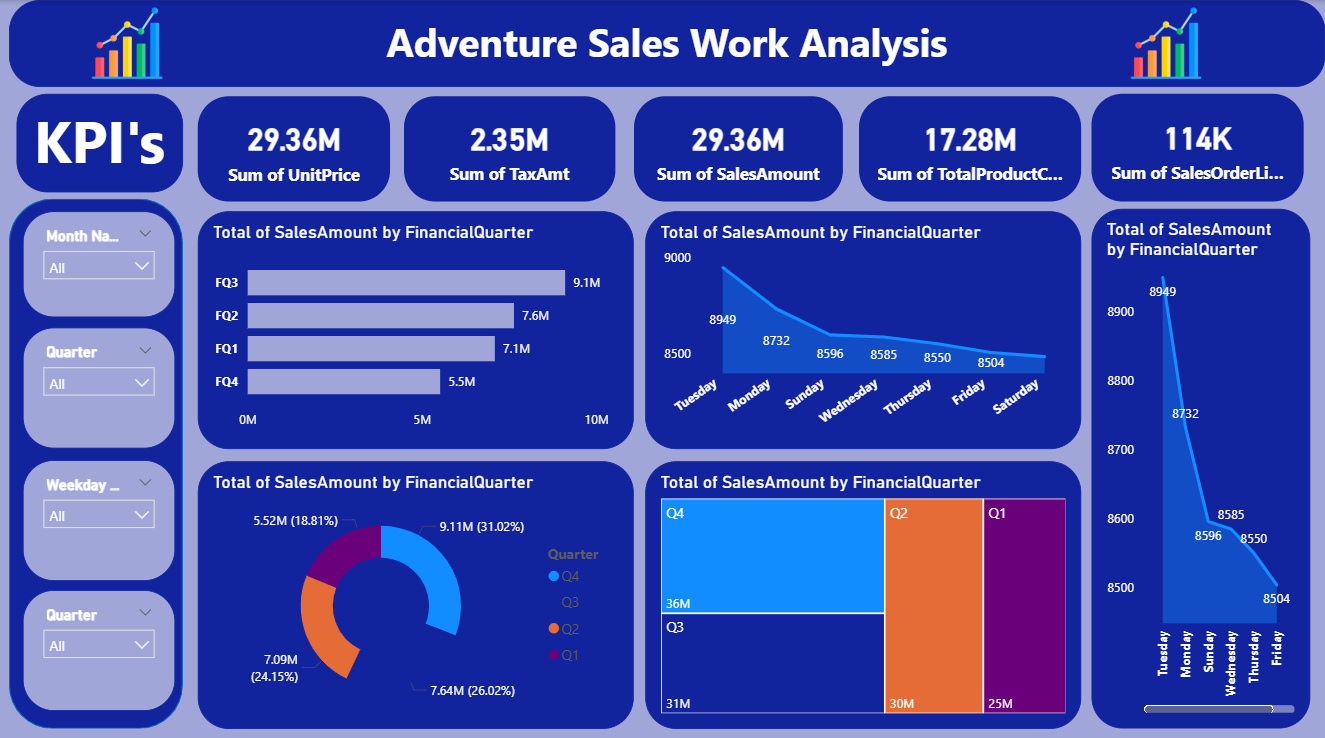

What the dashboard file says about the page in this screenshot:
{"tool":"powerbi","page":{"name":"Page 1","canvas":[1280,720],"ordinal":0},"visuals":[{"type":"textbox","box":[9.8,0,1270.5,84.4],"z":0,"group":"g1"},{"type":"textbox","box":[16.9,90.5,160.5,95.3],"z":1000,"group":"g1"},{"type":"card","fields":{"Values":["Sum(Sheet1.UnitPrice)"]},"box":[191.9,92.9,185.8,101.3],"z":2000,"group":"g1"},{"type":"card","fields":{"Values":["Sum(Sheet1.TaxAmt)"]},"box":[390.9,92.9,203.9,101.3],"z":3000,"group":"g1"},{"type":"card","fields":{"Values":["Sum(Sheet1.SalesAmount)"]},"box":[612.9,92.9,201.5,101.3],"z":4000,"group":"g1"},{"type":"card","fields":{"Values":["Sum(Sheet1.TotalProductCost)"]},"box":[830.1,92.9,214.7,101.3],"z":5000,"group":"g1"},{"type":"card","fields":{"Values":["Sum(Sheet1.SalesOrderLineNumber)"]},"box":[1054.5,90.5,205.1,103.8],"z":6000,"group":"g1"},{"type":"shape","box":[9.7,191.8,167.7,511.5],"z":7000,"group":"g1"},{"type":"slicer","fields":{"Values":["Sheet1.MonthName"]},"box":[23,203.9,147.2,102.5],"z":8000,"group":"g1"},{"type":"slicer","fields":{"Values":["Sheet1.Quarter"]},"box":[23,316.1,147.2,117],"z":9000,"group":"g1"},{"type":"slicer","fields":{"Values":["Sheet1.Weekdayname"]},"box":[23,444,147.2,117],"z":9001,"group":"g1"},{"type":"slicer","fields":{"Values":["Sheet1.Quarter"]},"box":[23,569.4,147.2,117],"z":9002,"group":"g1"},{"type":"clusteredBarChart","title":"Total of SalesAmount by FinancialQuarter","fields":{"Category":["Sheet1.FinancialQuarter"],"Y":["Sum(Sheet1.SalesAmount)"]},"box":[191.9,203.9,421,229.2],"z":9003,"group":"g1"},{"type":"stackedAreaChart","title":"Total of SalesAmount by FinancialQuarter","fields":{"Category":["Sheet1.Weekdayname"],"Y":["Sum(Sheet1.OrderQuantity)"]},"box":[623.8,203.9,421,229.2],"z":9004,"group":"g1"},{"type":"donutChart","title":"Total of SalesAmount by FinancialQuarter","fields":{"Category":["Sheet1.Quarter"],"Y":["Sum(Sheet1.UnitPrice)"]},"box":[191.9,445.2,421,258.2],"z":9005,"group":"g1"},{"type":"treemap","title":"Total of SalesAmount by FinancialQuarter","fields":{"Group":["Sheet1.Quarter"],"Values":["Sum(Sheet1.Year)"]},"box":[623.8,445.2,421,258.2],"z":9006,"group":"g1"},{"type":"areaChart","title":"Total of SalesAmount by FinancialQuarter","fields":{"Category":["Sheet1.Weekdayname"],"Y":["Sum(Sheet1.OrderQuantity)"]},"box":[1054.5,201.5,211.1,501.9],"z":9007,"group":"g1"},{"type":"image","box":[42.3,7.2,162.9,68.8],"z":9009,"group":"g1"},{"type":"image","box":[1044.8,7.2,162.9,68.8],"z":9010,"group":"g1"},{"type":"group","id":"g1","title":"Group 1","box":[9.7,0,1270.7,703.4],"z":9011}]}

Visuals, with their boxes in screenshot pixels (x1, y1, x2, y2), scaled from the page's 1280x720 canvas onto the 1325x738 screenshot:
textbox: box=[10, 0, 1324, 87]
textbox: box=[17, 93, 184, 190]
card - Sum(Sheet1.UnitPrice): box=[199, 95, 391, 199]
card - Sum(Sheet1.TaxAmt): box=[405, 95, 616, 199]
card - Sum(Sheet1.SalesAmount): box=[634, 95, 843, 199]
card - Sum(Sheet1.TotalProductCost): box=[859, 95, 1082, 199]
card - Sum(Sheet1.SalesOrderLineNumber): box=[1092, 93, 1304, 199]
shape: box=[10, 197, 184, 721]
slicer - Sheet1.MonthName: box=[24, 209, 176, 314]
slicer - Sheet1.Quarter: box=[24, 324, 176, 444]
slicer - Sheet1.Weekdayname: box=[24, 455, 176, 575]
slicer - Sheet1.Quarter: box=[24, 584, 176, 704]
"Total of SalesAmount by FinancialQuarter" clusteredBarChart: box=[199, 209, 634, 444]
"Total of SalesAmount by FinancialQuarter" stackedAreaChart: box=[646, 209, 1082, 444]
"Total of SalesAmount by FinancialQuarter" donutChart: box=[199, 456, 634, 721]
"Total of SalesAmount by FinancialQuarter" treemap: box=[646, 456, 1082, 721]
"Total of SalesAmount by FinancialQuarter" areaChart: box=[1092, 207, 1310, 721]
image: box=[44, 7, 212, 78]
image: box=[1082, 7, 1250, 78]
"Group 1" group: box=[10, 0, 1324, 721]
